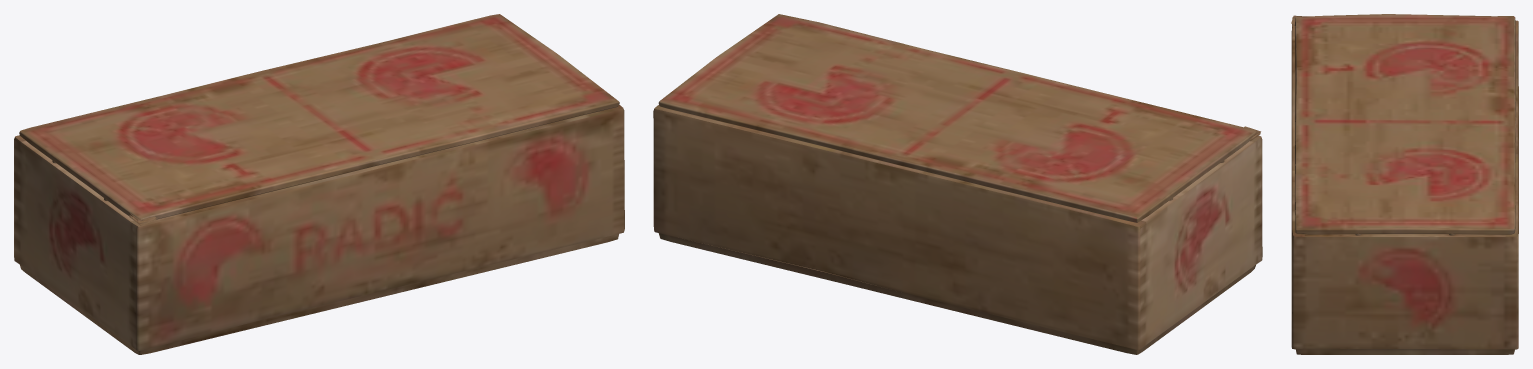
The model's file is crateOpen_lo.glb.
3 renders of one model, left to right at view 1: azimuth 30°, elevation 25°; view 2: azimuth 150°, elevation 25°; view 3: azimuth 270°, elevation 25°, orthographic. The views are drawn at different scales.
Visible parts, largest first — view 1: CheeseBox_01, CheeseBox_01_lid; view 2: CheeseBox_01, CheeseBox_01_lid; view 3: CheeseBox_01_lid, CheeseBox_01.
Boxes of the visible parts, x1,y1,x2,y2 form: CheeseBox_01: (14, 105, 624, 354); CheeseBox_01_lid: (19, 14, 619, 225); CheeseBox_01: (653, 105, 1262, 354); CheeseBox_01_lid: (658, 14, 1260, 222); CheeseBox_01_lid: (1291, 14, 1515, 234); CheeseBox_01: (1291, 20, 1518, 354).
Bounding box in the file's own units: 0.2404 × 0.066 × 0.1066.
1 material, 1 textured.
